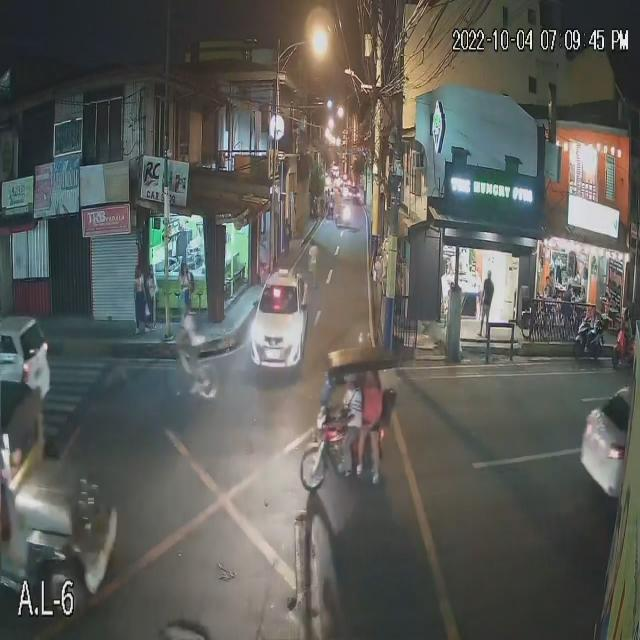motorcycle: (573, 314, 609, 363), (614, 320, 638, 370)
